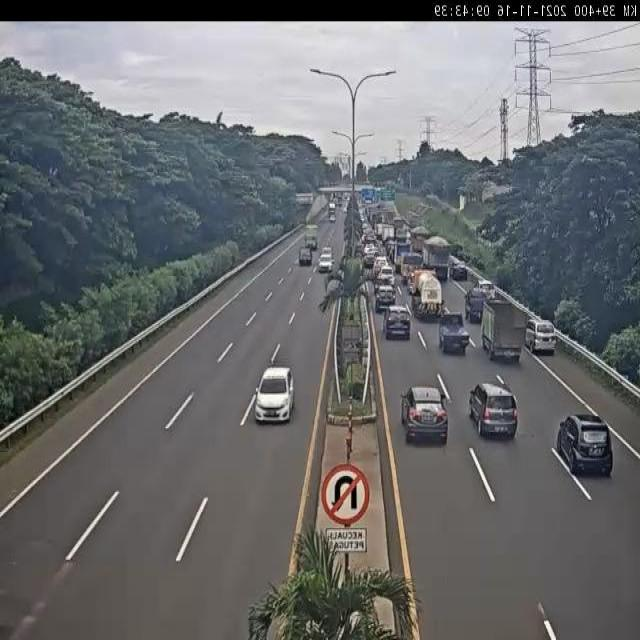Car: (556, 415, 612, 477), (469, 381, 519, 440), (401, 384, 448, 445), (253, 365, 297, 426), (438, 312, 469, 354), (525, 318, 556, 356), (384, 304, 412, 340), (464, 286, 488, 322), (374, 282, 398, 314), (476, 279, 496, 300), (378, 268, 395, 291), (451, 260, 467, 281), (318, 254, 333, 273), (299, 247, 312, 266), (321, 246, 332, 259), (328, 202, 336, 212), (329, 214, 335, 223), (343, 204, 348, 213)
Truck: (482, 300, 522, 360), (410, 268, 445, 317), (424, 235, 448, 275), (302, 223, 320, 250)
